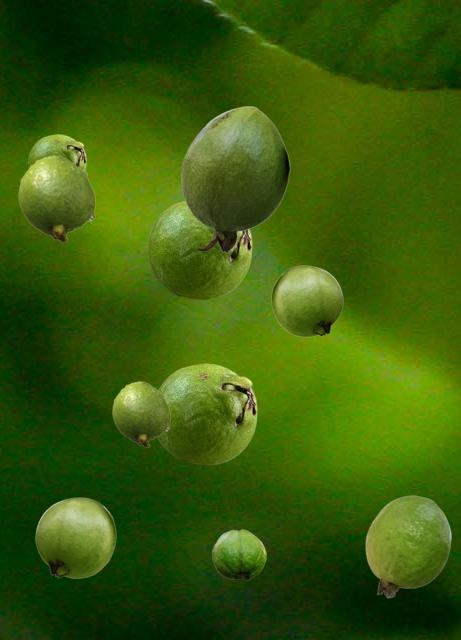guava: (181, 106, 289, 252), (147, 200, 251, 299), (157, 363, 256, 464), (365, 495, 450, 597), (18, 155, 94, 241), (35, 497, 115, 577), (271, 265, 342, 336), (112, 381, 169, 446), (212, 529, 265, 579), (28, 134, 85, 170)
